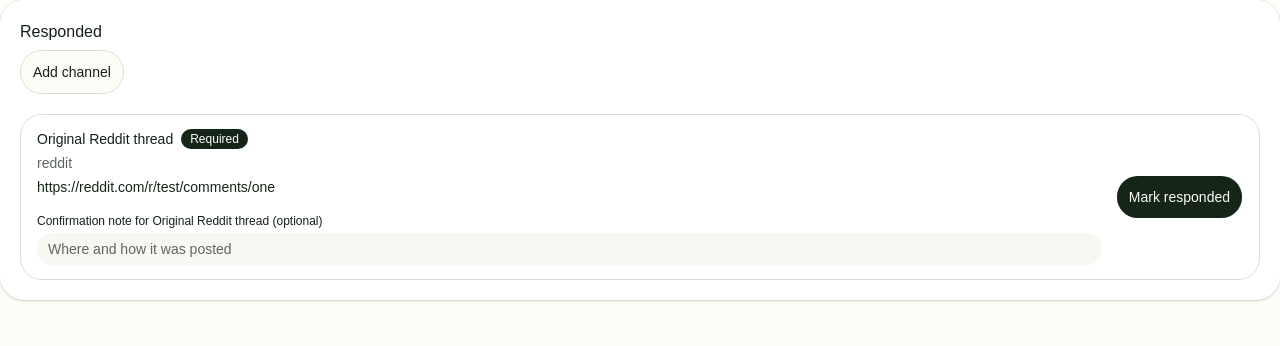
Test: Delivery target checklist contract › renders a confirmed receipt from the mutation response
Type "Posted from the operator workspace" into the field labelled "Confirmation note for Original Reddit thread (optional)".
click(569, 249); type("Posted from the operator workspace")  # box [37,233,1102,265]
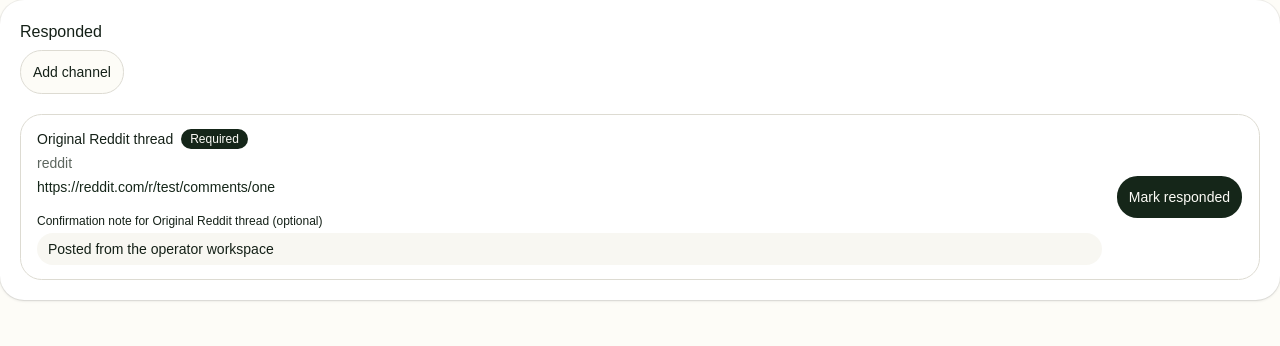
Click the button with aria-label "Mark Original Reddit thread responded".
click(1179, 197)  # box [1116,175,1243,219]
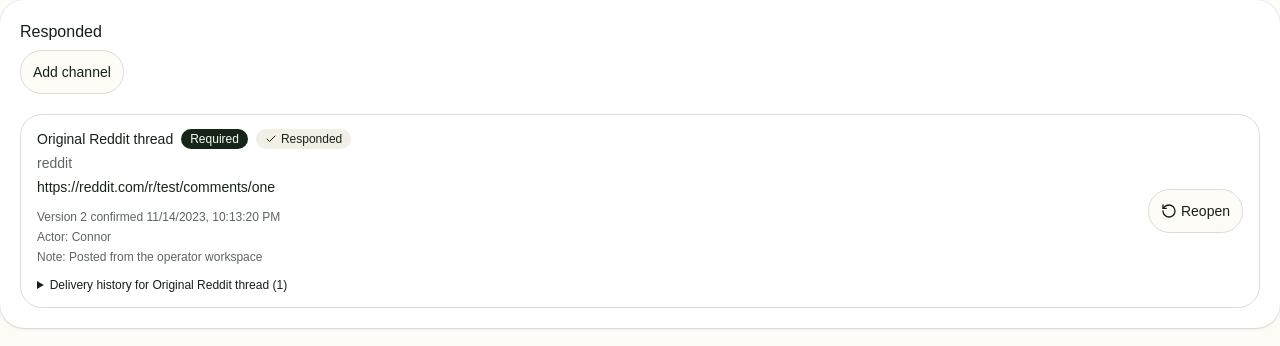
Result: the button with aria-label "Reopen delivery to Original Reddit thread" is shown at [1148,189,1243,233]
